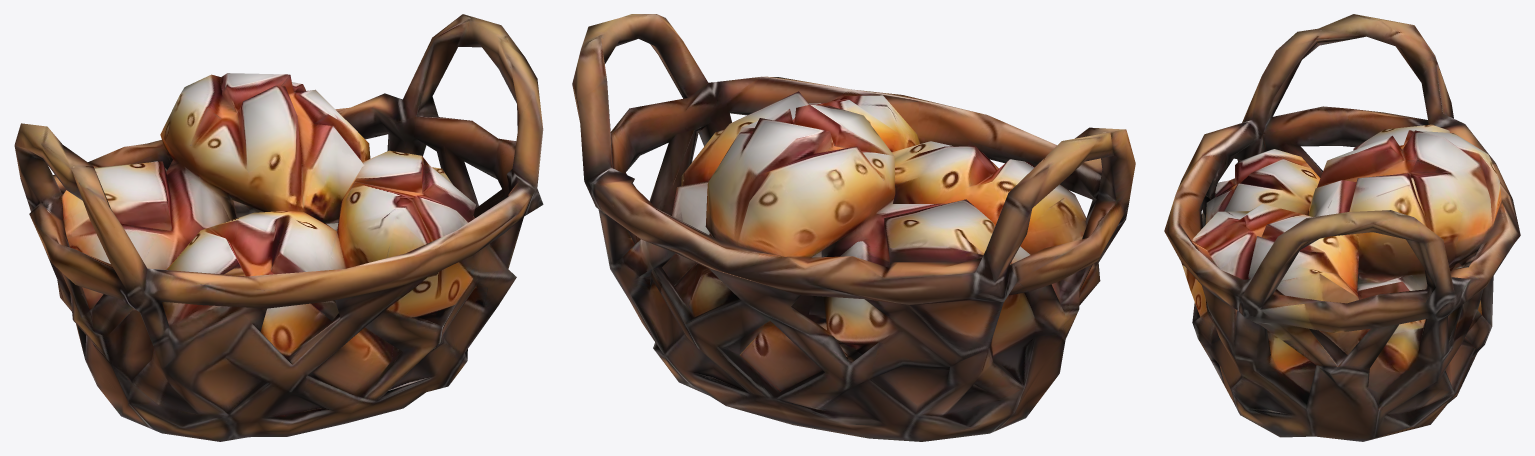
File: bread1.glb
3 renders of one model, left to right at view 1: azimuth 30°, elevation 25°; view 2: azimuth 150°, elevation 25°; view 3: azimuth 270°, elevation 25°, orthographic. The views are drawn at different scales.
Bounding box in the file's own units: 2 × 1.18 × 1.46.
1 material, 1 textured.
